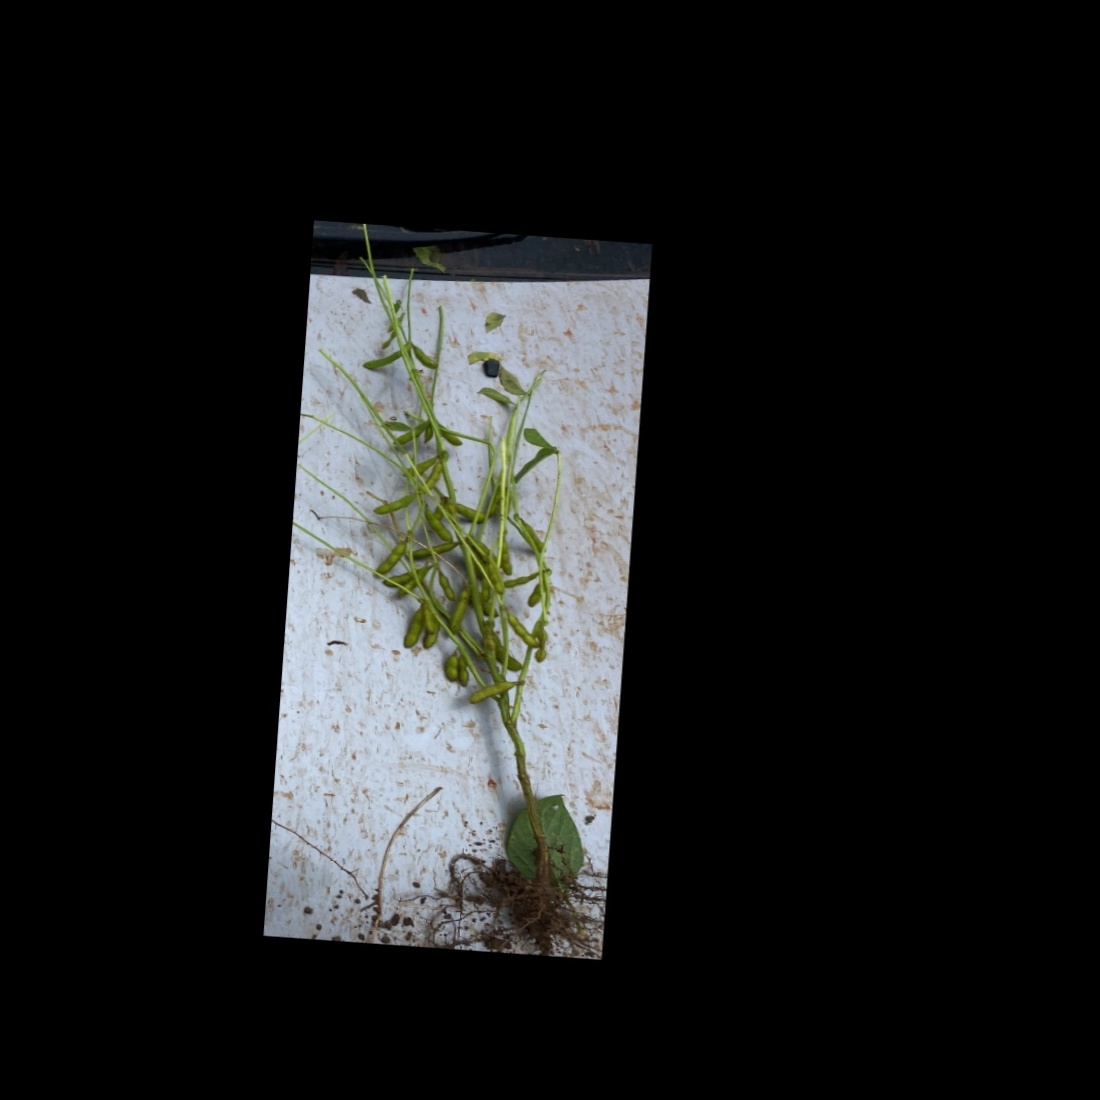pod: (467, 674, 515, 708), (500, 608, 539, 649), (371, 540, 406, 580), (421, 508, 454, 542), (373, 490, 416, 516), (360, 347, 399, 373), (448, 589, 470, 635), (402, 608, 423, 650), (409, 341, 439, 368), (434, 570, 456, 601), (533, 628, 550, 664), (502, 572, 535, 590), (457, 654, 471, 688), (444, 652, 458, 684), (524, 585, 540, 609), (379, 332, 395, 352)
soy: (314, 268, 628, 924)
